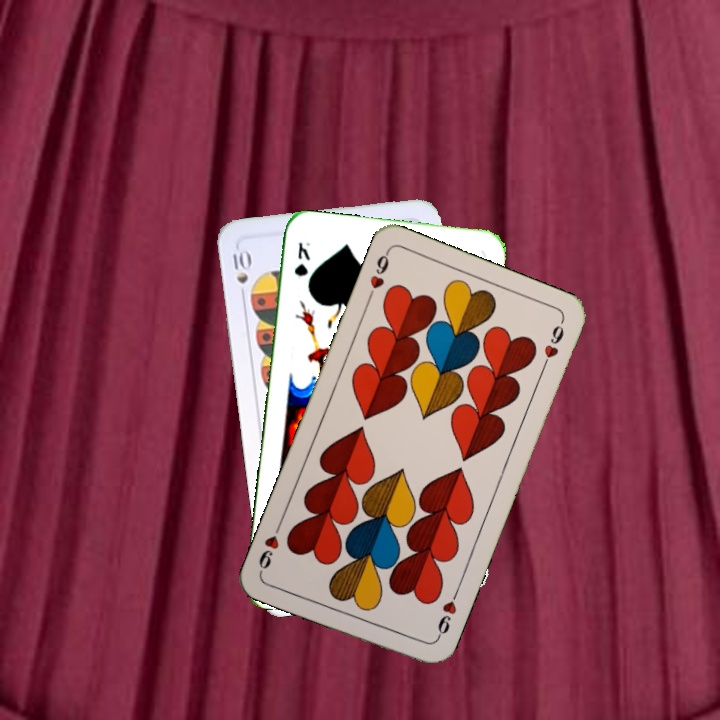GK: (290, 238, 313, 279)
H9: (431, 587, 461, 644), (363, 247, 392, 304)
S10: (226, 246, 253, 303)
